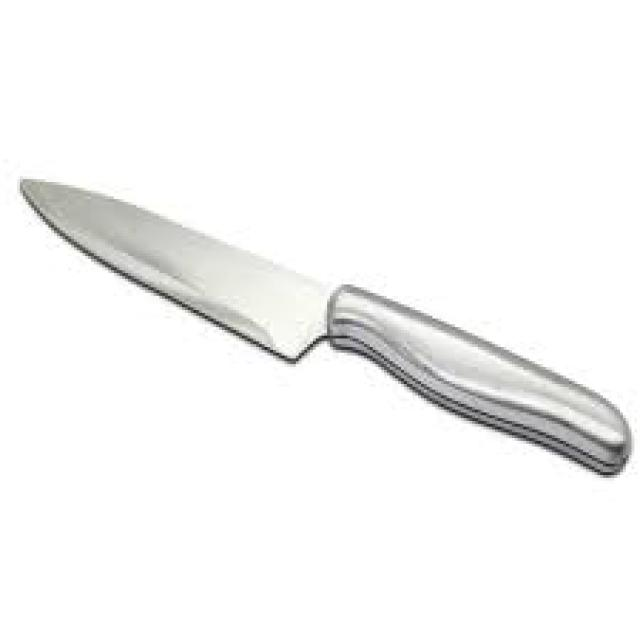Knife: (9, 109, 630, 506)
